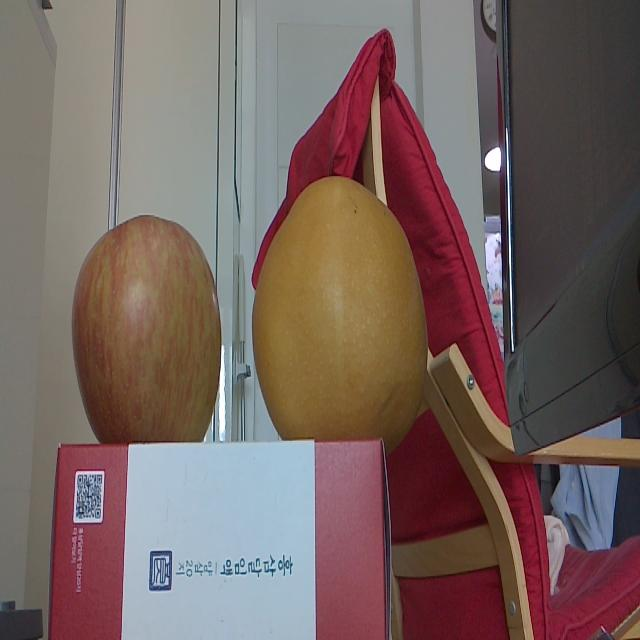apple: (71, 211, 224, 444)
pear: (252, 172, 426, 442)
